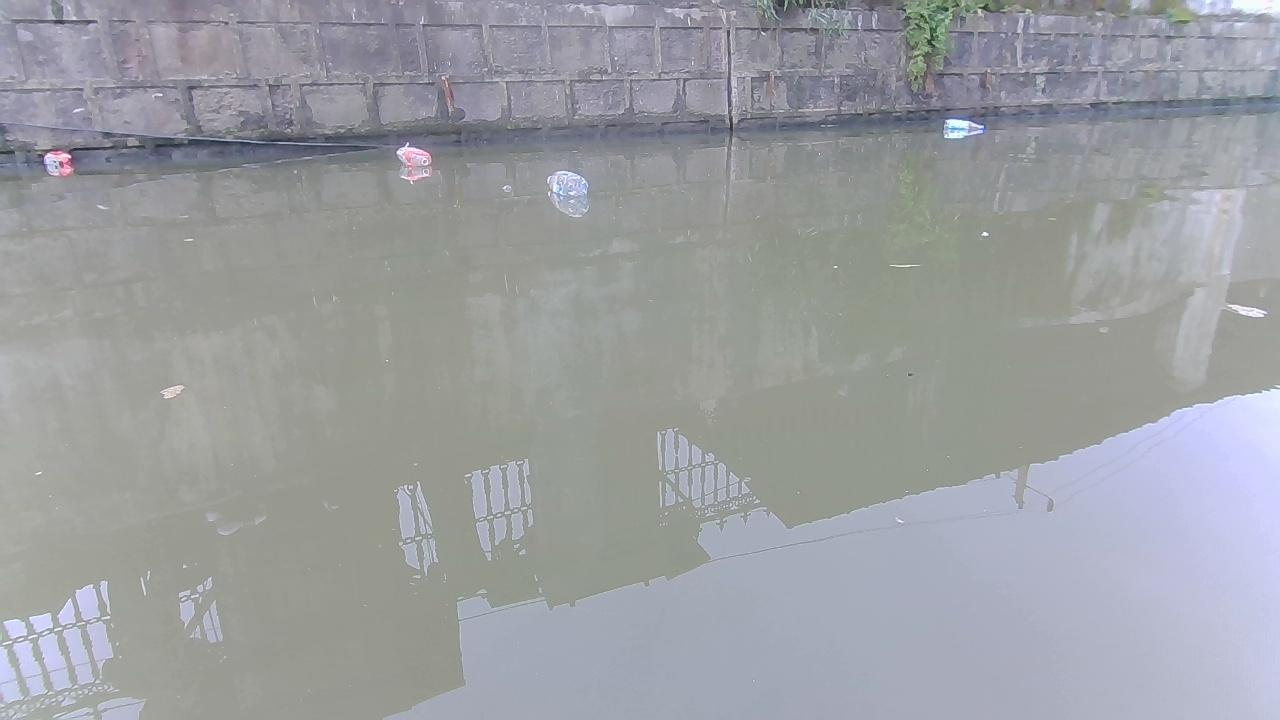bottle: (546, 169, 591, 202), (940, 118, 990, 137), (395, 142, 434, 165), (40, 150, 71, 169)
